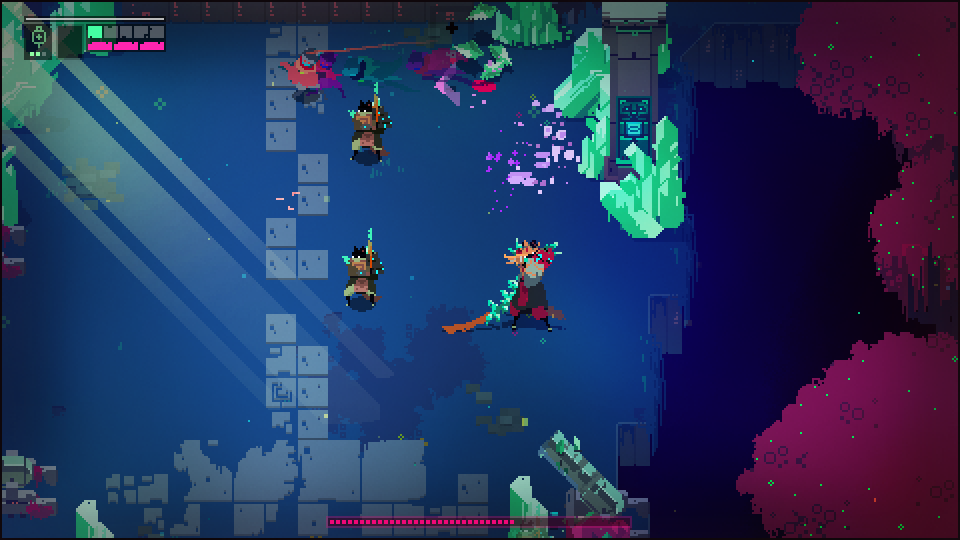hanged_man: (469, 235, 577, 335)
player: (280, 43, 324, 102)
